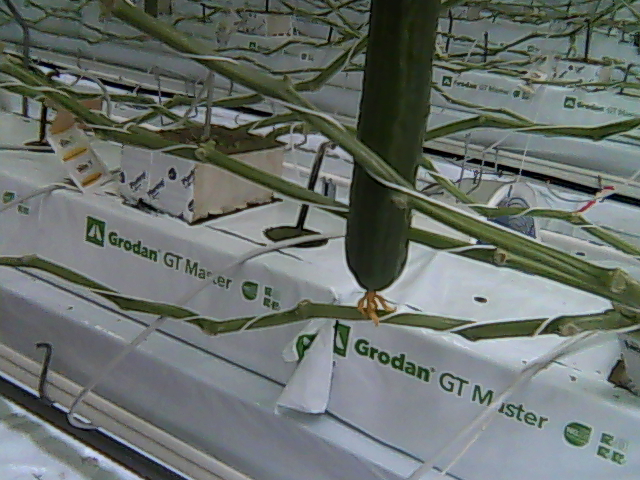concombre: (343, 5, 444, 326)
